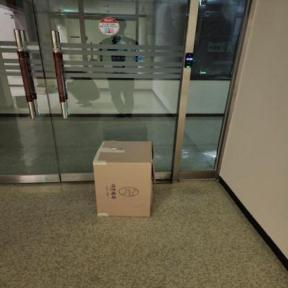box: (90, 134, 157, 220)
